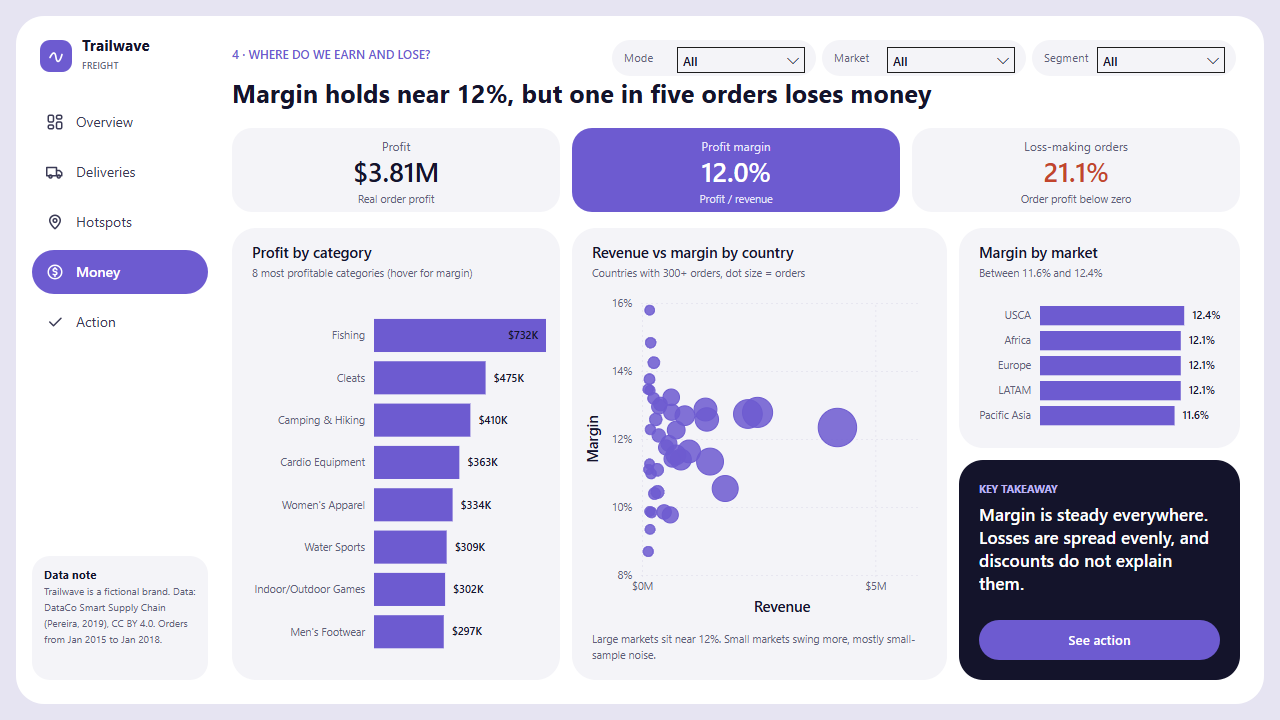

The dashboard page shown, as its layout file describes it:
{"tool":"powerbi","page":{"name":"Money","canvas":[1280,720],"ordinal":3},"visuals":[{"type":"textbox","box":[82,34,130,28],"z":1100},{"type":"textbox","box":[82,56,130,20],"z":1200},{"type":"textbox","box":[76,112,120,20],"z":1300},{"type":"textbox","box":[76,162,120,20],"z":1400},{"type":"textbox","box":[76,212,120,20],"z":1500},{"type":"textbox","box":[76,262,120,20],"z":1600},{"type":"textbox","box":[76,312,120,20],"z":1700},{"type":"textbox","box":[44,566,152,108],"z":1800},{"type":"textbox","box":[232,46,370,18],"z":1900},{"type":"textbox","box":[232,76,1008,36],"z":2000},{"type":"textbox","box":[624,49,52,18],"z":2100},{"type":"slicer","fields":{"Values":["dim_shipping_mode.shipping_mode"]},"box":[672,42,138,32],"z":2200},{"type":"textbox","box":[834,49,52,18],"z":2300},{"type":"slicer","fields":{"Values":["dim_geography.market"]},"box":[882,42,138,32],"z":2400},{"type":"textbox","box":[1044,49,52,18],"z":2500},{"type":"slicer","fields":{"Values":["dim_customer.customer_segment"]},"box":[1092,42,138,32],"z":2600},{"type":"textbox","box":[242,138,308,18],"z":2700},{"type":"card","fields":{"Values":["_Measures.Profit"]},"box":[238,156,316,34],"z":2800},{"type":"textbox","box":[242,190,308,16],"z":2900},{"type":"textbox","box":[582,138,308,18],"z":3000},{"type":"card","fields":{"Values":["_Measures.Profit Margin %"]},"box":[578,156,316,34],"z":3100},{"type":"textbox","box":[582,190,308,16],"z":3200},{"type":"textbox","box":[922,138,308,18],"z":3300},{"type":"card","fields":{"Values":["_Measures.Loss-Making Orders %"]},"box":[918,156,316,34],"z":3400},{"type":"textbox","box":[922,190,308,16],"z":3500},{"type":"textbox","box":[252,242,288,22],"z":3600},{"type":"textbox","box":[252,264,288,18],"z":3700},{"type":"clusteredBarChart","fields":{"Category":["dim_product.category_name"],"Y":["_Measures.Profit (Top 8 Categories)"]},"box":[242,290,308,380],"z":3800},{"type":"textbox","box":[592,242,335,22],"z":3900},{"type":"textbox","box":[592,264,335,18],"z":4000},{"type":"scatterChart","fields":{"Category":["dim_geography.country"],"Size":["_Measures.Orders"],"X":["_Measures.Revenue"],"Y":["_Measures.Profit Margin % (300+ Orders)"]},"box":[582,290,355,330],"z":4100},{"type":"textbox","box":[592,630,335,40],"z":4200},{"type":"textbox","box":[979,242,241,22],"z":4300},{"type":"textbox","box":[979,264,241,18],"z":4400},{"type":"clusteredBarChart","fields":{"Category":["dim_geography.market"],"Y":["_Measures.Profit Margin %"]},"box":[969,284,261,156],"z":4500},{"type":"textbox","box":[979,480,241,18],"z":4600},{"type":"textbox","box":[979,502,241,110],"z":4700},{"type":"textbox","box":[979,631,241,20],"z":4800},{"type":"actionButton","box":[979,620,241,40],"z":4900},{"type":"actionButton","box":[32,100,176,44],"z":5000},{"type":"actionButton","box":[32,150,176,44],"z":5100},{"type":"actionButton","box":[32,200,176,44],"z":5200},{"type":"actionButton","box":[32,250,176,44],"z":5300},{"type":"actionButton","box":[32,300,176,44],"z":5400}]}

Visuals, with their boxes on the page's 1280x720 design canvas (x1, y1, x2, y2). These are canvas units, not pixel positions in the 1280x720 screenshot, which may show the page scaled, cropped or inside an application window:
textbox: (82,34,212,62)
textbox: (82,56,212,76)
textbox: (76,112,196,132)
textbox: (76,162,196,182)
textbox: (76,212,196,232)
textbox: (76,262,196,282)
textbox: (76,312,196,332)
textbox: (44,566,196,674)
textbox: (232,46,602,64)
textbox: (232,76,1240,112)
textbox: (624,49,676,67)
slicer - dim_shipping_mode.shipping_mode: (672,42,810,74)
textbox: (834,49,886,67)
slicer - dim_geography.market: (882,42,1020,74)
textbox: (1044,49,1096,67)
slicer - dim_customer.customer_segment: (1092,42,1230,74)
textbox: (242,138,550,156)
card - _Measures.Profit: (238,156,554,190)
textbox: (242,190,550,206)
textbox: (582,138,890,156)
card - _Measures.Profit Margin %: (578,156,894,190)
textbox: (582,190,890,206)
textbox: (922,138,1230,156)
card - _Measures.Loss-Making Orders %: (918,156,1234,190)
textbox: (922,190,1230,206)
textbox: (252,242,540,264)
textbox: (252,264,540,282)
clusteredBarChart - dim_product.category_name x _Measures.Profit (Top 8 Categories): (242,290,550,670)
textbox: (592,242,927,264)
textbox: (592,264,927,282)
scatterChart - dim_geography.country x _Measures.Orders: (582,290,937,620)
textbox: (592,630,927,670)
textbox: (979,242,1220,264)
textbox: (979,264,1220,282)
clusteredBarChart - dim_geography.market x _Measures.Profit Margin %: (969,284,1230,440)
textbox: (979,480,1220,498)
textbox: (979,502,1220,612)
textbox: (979,631,1220,651)
actionButton: (979,620,1220,660)
actionButton: (32,100,208,144)
actionButton: (32,150,208,194)
actionButton: (32,200,208,244)
actionButton: (32,250,208,294)
actionButton: (32,300,208,344)
